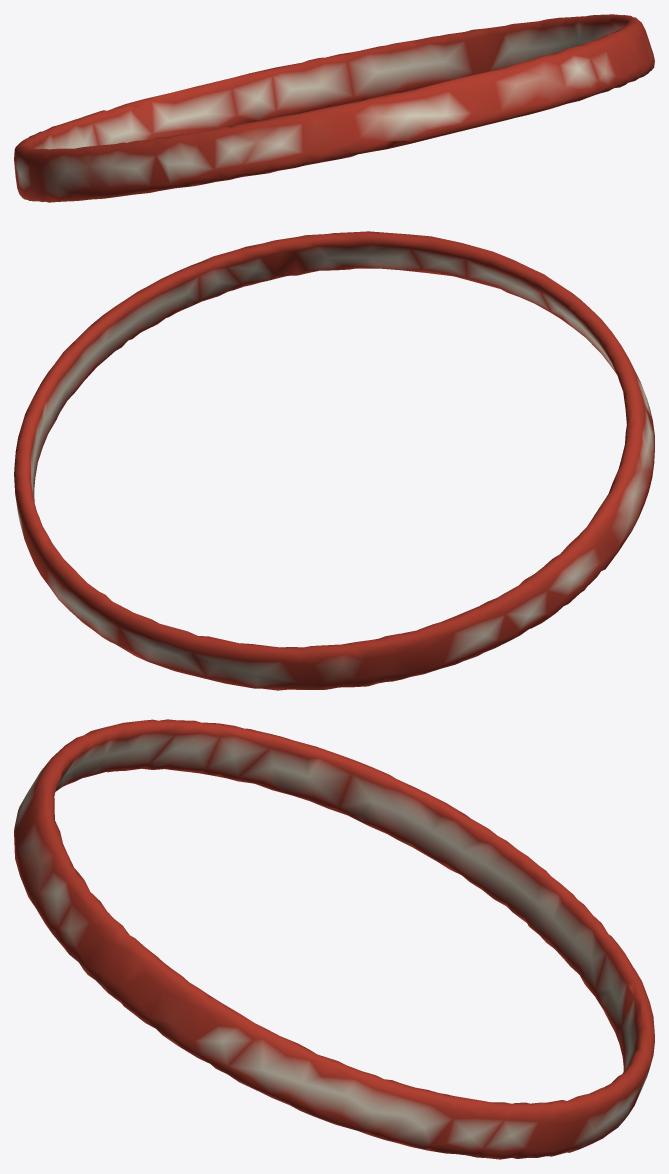
The model's file is bangdo.glb.
3 views of the same model, one above another, from view 1: azimuth 30°, elevation 25°; view 2: azimuth 150°, elevation 25°; view 3: azimuth 270°, elevation 25° (orthographic). The views are drawn at different scales.
Parts seen in each view (by area): view 1: Bang_Do; view 2: Bang_Do; view 3: Bang_Do.
Part boxes in pixels (left/top/right/bottom): Bang_Do: left=14, top=14, right=654, bottom=202; Bang_Do: left=14, top=231, right=654, bottom=690; Bang_Do: left=14, top=719, right=654, bottom=1159.
Bounding box in the file's own units: 0.2703 × 0.1105 × 0.2282.
